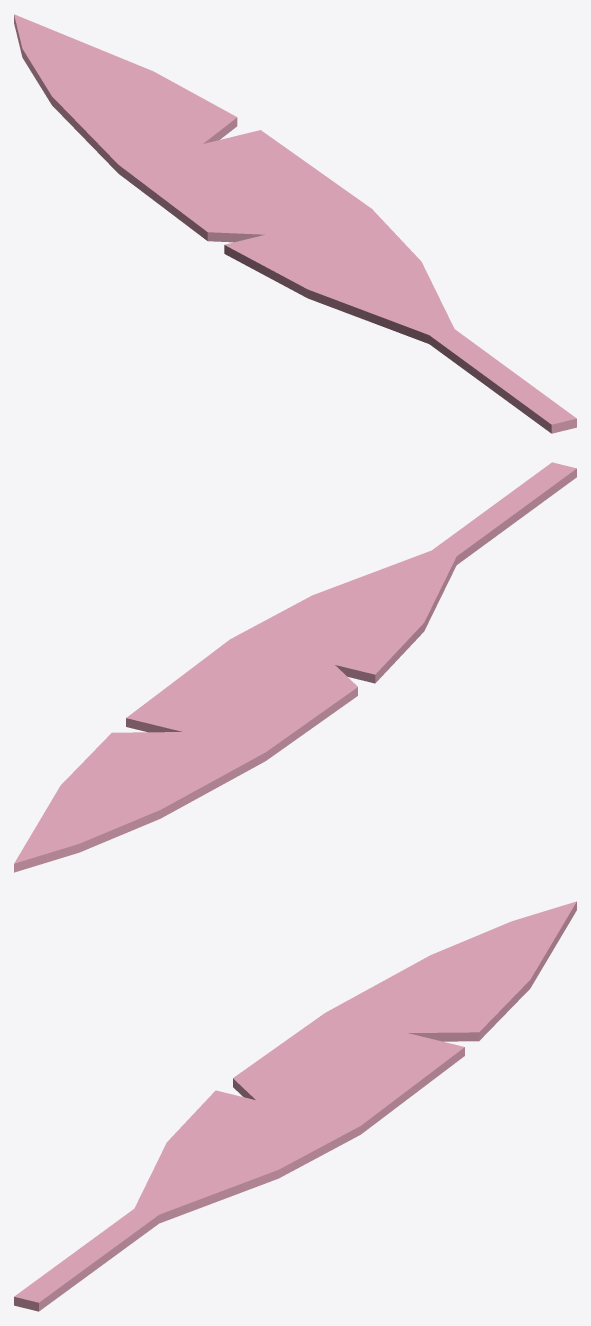
File: Asset_PinkFeather.fbx
3 renders of one model, top to bottom at view 1: azimuth 30°, elevation 25°; view 2: azimuth 150°, elevation 25°; view 3: azimuth 330°, elevation 25°, orthographic.
Visible parts, largest first — view 1: Asset_PinkFeather; view 2: Asset_PinkFeather; view 3: Asset_PinkFeather.
Boxes of the visible parts, x1=… form: Asset_PinkFeather: x1=14, y1=14, x2=576, y2=433; Asset_PinkFeather: x1=14, y1=462, x2=576, y2=872; Asset_PinkFeather: x1=14, y1=901, x2=576, y2=1311.
Size of the model in its own units: 7.97 by 0.4657 by 51.87.
